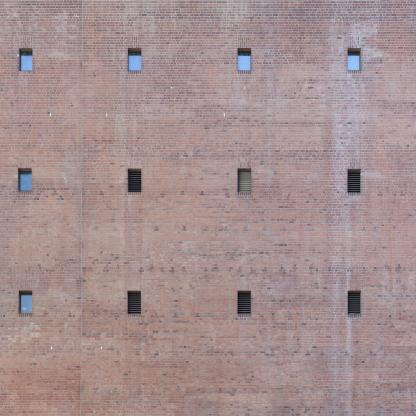Building Outline: (0, 1, 416, 415)
Cornice: (19, 36, 33, 48), (18, 157, 32, 169), (127, 279, 141, 291), (348, 279, 361, 291), (348, 36, 361, 48), (19, 279, 32, 291), (128, 157, 141, 169), (238, 279, 251, 291), (238, 36, 251, 48), (238, 157, 251, 169), (347, 158, 361, 169), (128, 37, 141, 48)
Facade: (0, 0, 416, 415)
Floor: (0, 237, 415, 359), (0, 0, 415, 110), (0, 121, 415, 227)
Floor Slab: (0, 111, 415, 121), (0, 360, 415, 370), (0, 227, 415, 237)
Sill: (347, 192, 361, 196), (18, 191, 32, 195), (127, 314, 141, 318), (348, 313, 361, 317), (19, 313, 32, 317), (128, 192, 141, 196), (238, 313, 251, 317), (238, 191, 251, 195), (19, 71, 33, 74), (348, 71, 361, 74), (128, 71, 141, 74), (238, 71, 251, 74)
Window: (347, 169, 361, 192), (19, 48, 33, 71), (127, 291, 141, 314), (18, 169, 32, 191), (128, 48, 141, 71), (238, 48, 251, 71), (348, 291, 361, 313), (348, 48, 361, 70), (19, 291, 32, 313), (128, 169, 141, 191), (238, 291, 251, 313), (238, 169, 251, 191)
